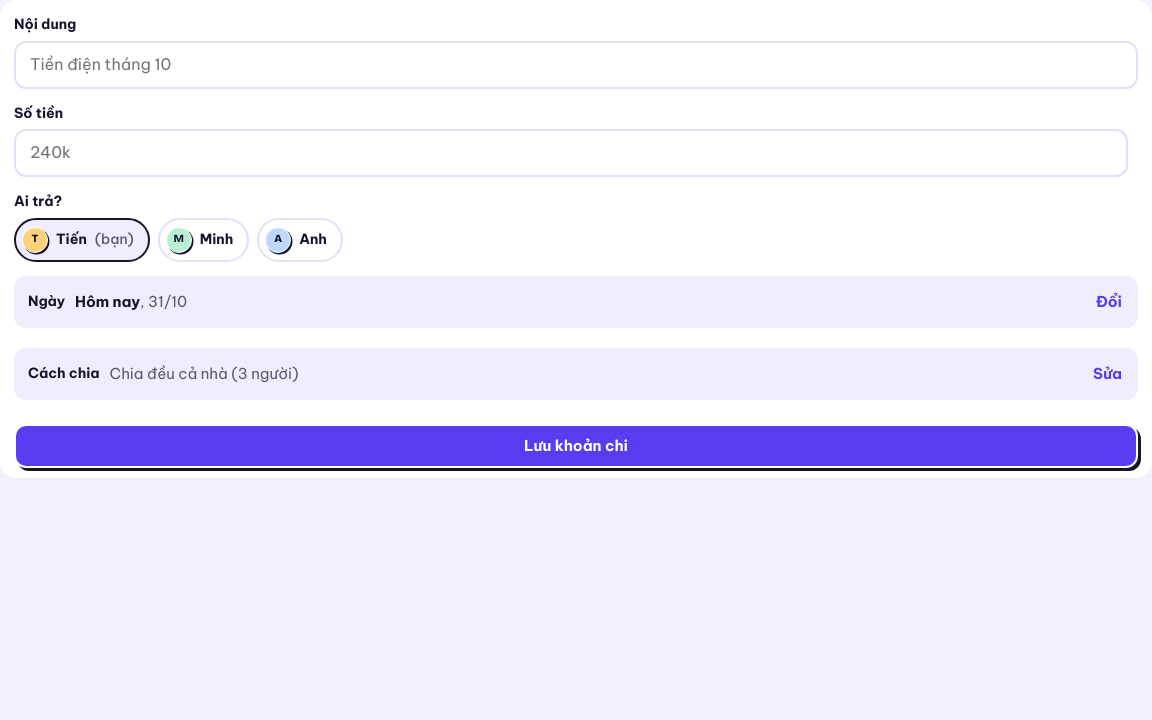
Test case: ExpenseForm, equal split › everyone takes part by default and sees their share before saving
This screenshot has width=1152, height=720.
In the field labelled "Nội dung": [576, 65] box [14, 41, 1138, 89], type "Tiền điện"
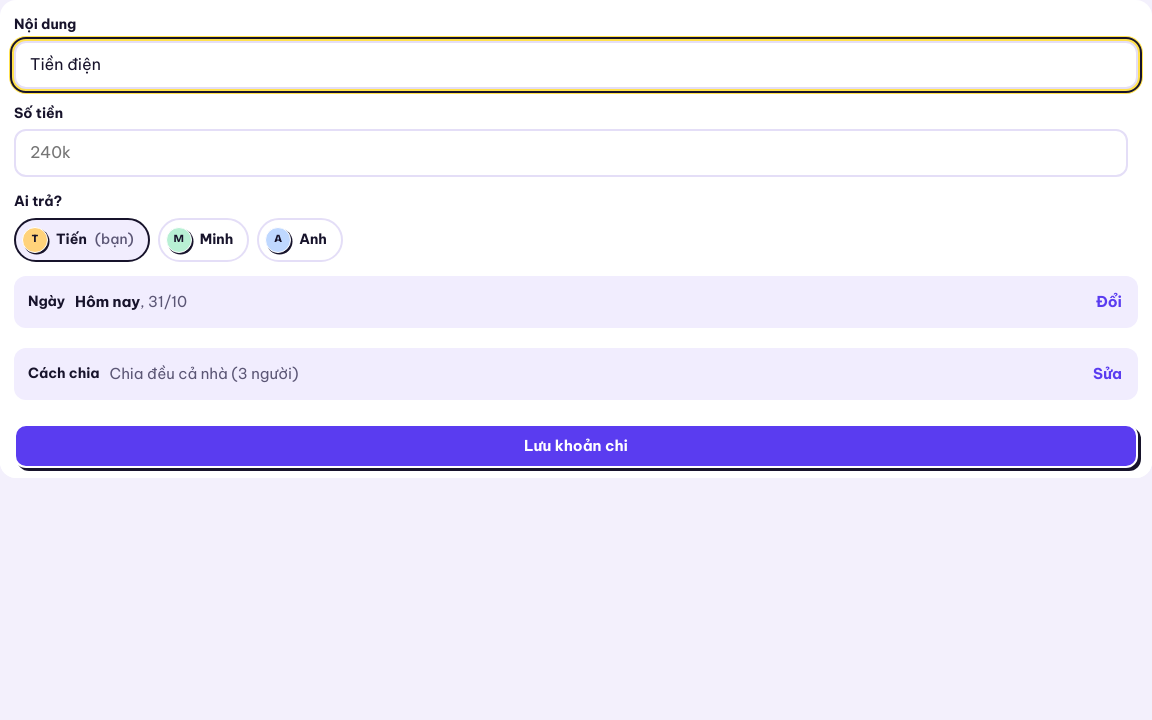
In the field labelled "Số tiền": [571, 153] box [14, 129, 1128, 177], type "100000"
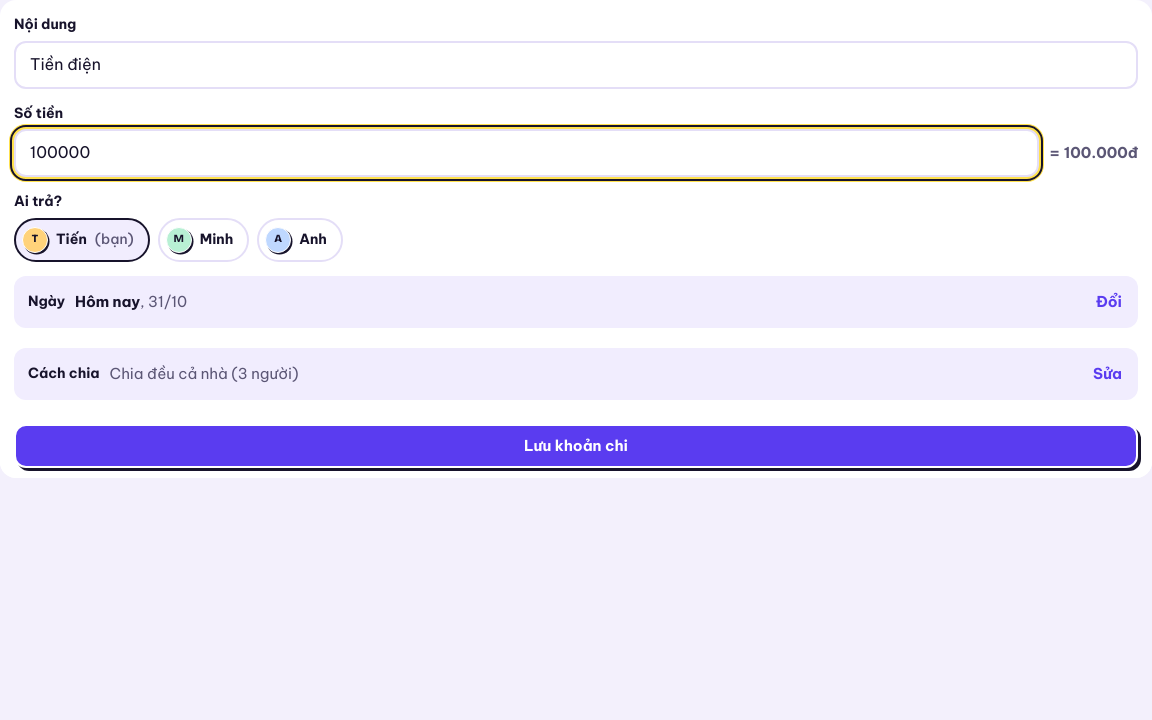
Click the button with aria-label "Sửa cách chia": [1108, 374] box [1081, 352, 1134, 396]
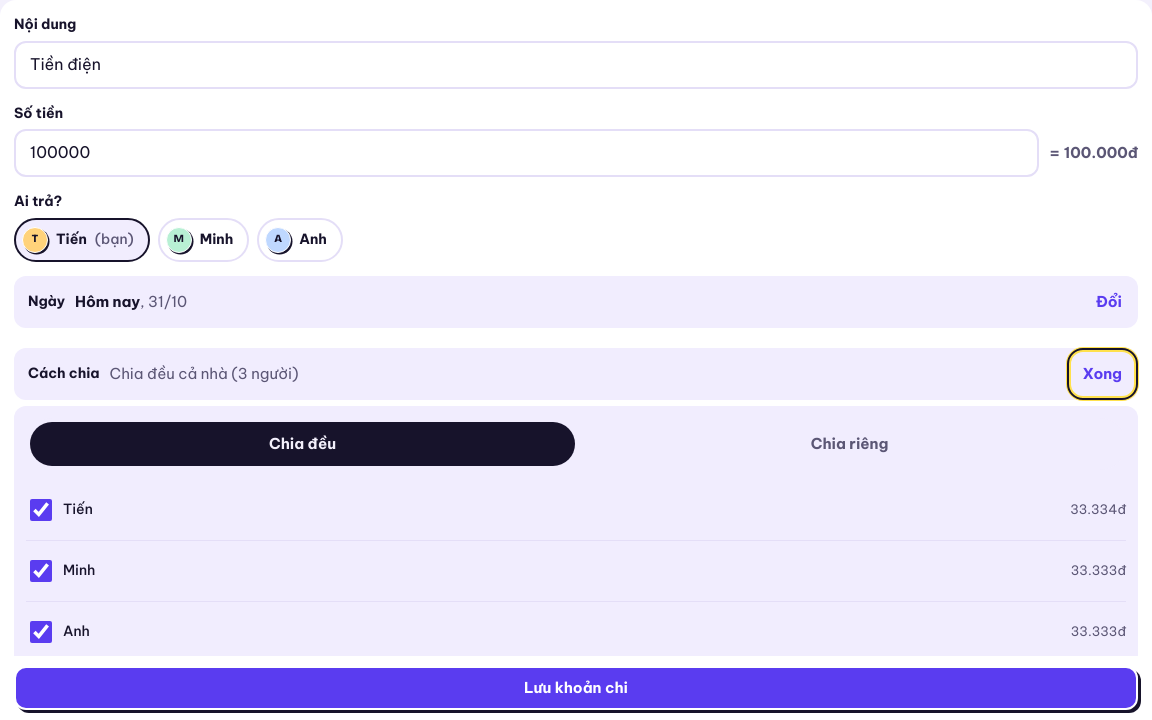
Expected: the checkbox labelled "Tiến" is checked, [30, 499, 52, 521]
Expected: the checkbox labelled "Minh" is checked, [30, 560, 52, 582]
Expected: the checkbox labelled "Anh" is checked, [30, 621, 52, 643]
